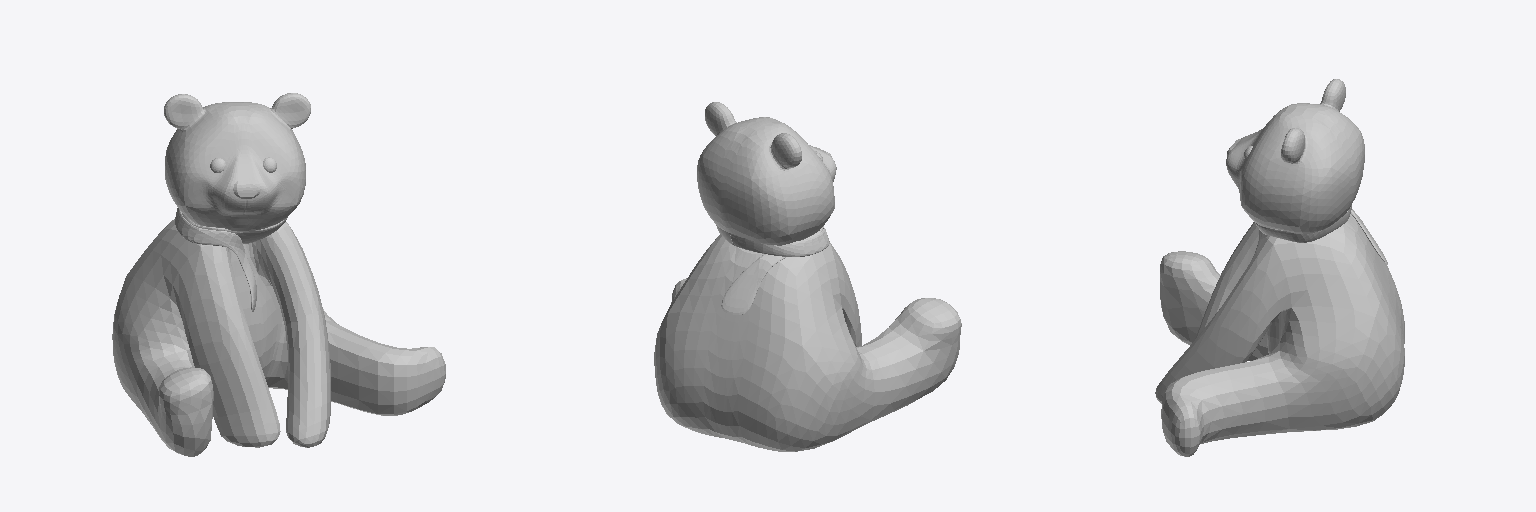
Rendered from Knut.obj.
3 renders of one model, left to right at view 1: azimuth 30°, elevation 25°; view 2: azimuth 150°, elevation 25°; view 3: azimuth 270°, elevation 25°, orthographic.
Visible parts, largest first — view 1: Group_001, Head_001, Head_002, Scarf_001; view 2: Group_001, Head_001, Head_002, Scarf_001; view 3: Group_001, Head_002, Head_001, Scarf_001.
Boxes of the visible parts, x1,y1,x2,y2 form: Group_001: [112, 219, 445, 456]; Head_001: [164, 94, 246, 231]; Head_002: [236, 93, 310, 231]; Scarf_001: [175, 208, 287, 311]; Group_001: [654, 234, 961, 451]; Head_001: [720, 121, 836, 245]; Head_002: [697, 102, 812, 232]; Scarf_001: [716, 225, 829, 314]; Group_001: [1155, 214, 1404, 456]; Head_002: [1226, 110, 1355, 233]; Head_001: [1239, 79, 1364, 208]; Scarf_001: [1252, 205, 1387, 264].
Bounding box in the file's own units: 166 × 171 × 127.